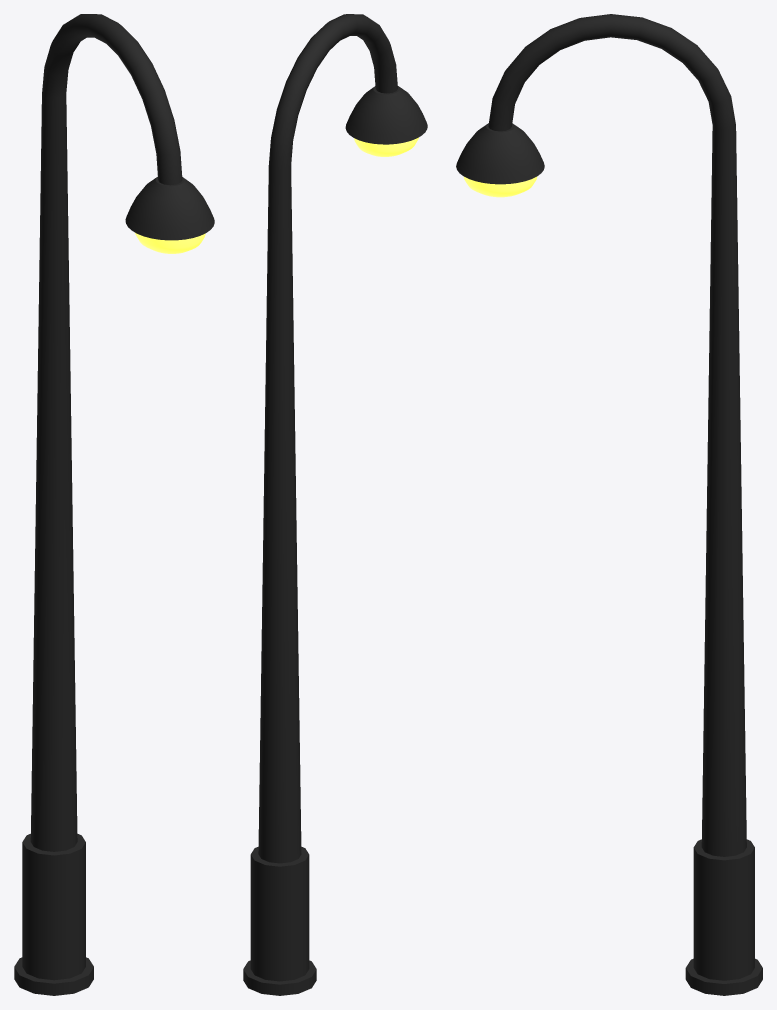
Rendered from FarolaModernaRodonaDe1.007.fbx.
3 views of the same model, side by side, from view 1: azimuth 30°, elevation 25°; view 2: azimuth 150°, elevation 25°; view 3: azimuth 270°, elevation 25° (orthographic). The views are drawn at different scales.
Visible parts, largest first — view 1: FarolaModernaRodonaDe1.007; view 2: FarolaModernaRodonaDe1.007; view 3: FarolaModernaRodonaDe1.007.
Part boxes in pixels (bbox=[...]): FarolaModernaRodonaDe1.007: bbox=[14, 14, 214, 995]; FarolaModernaRodonaDe1.007: bbox=[243, 14, 427, 995]; FarolaModernaRodonaDe1.007: bbox=[456, 14, 762, 995].
Bounding box in the file's own units: 28.81 × 359 × 103.
